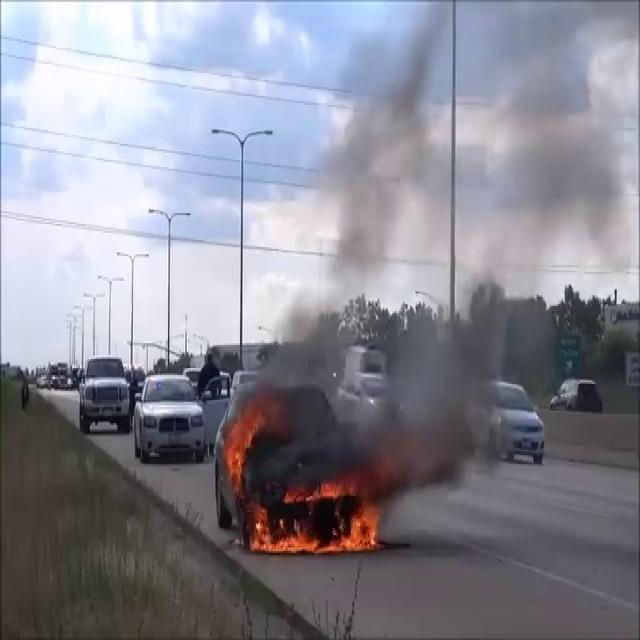Fire: (252, 476, 384, 556), (220, 404, 266, 494)
Smoke: (264, 2, 640, 456)
